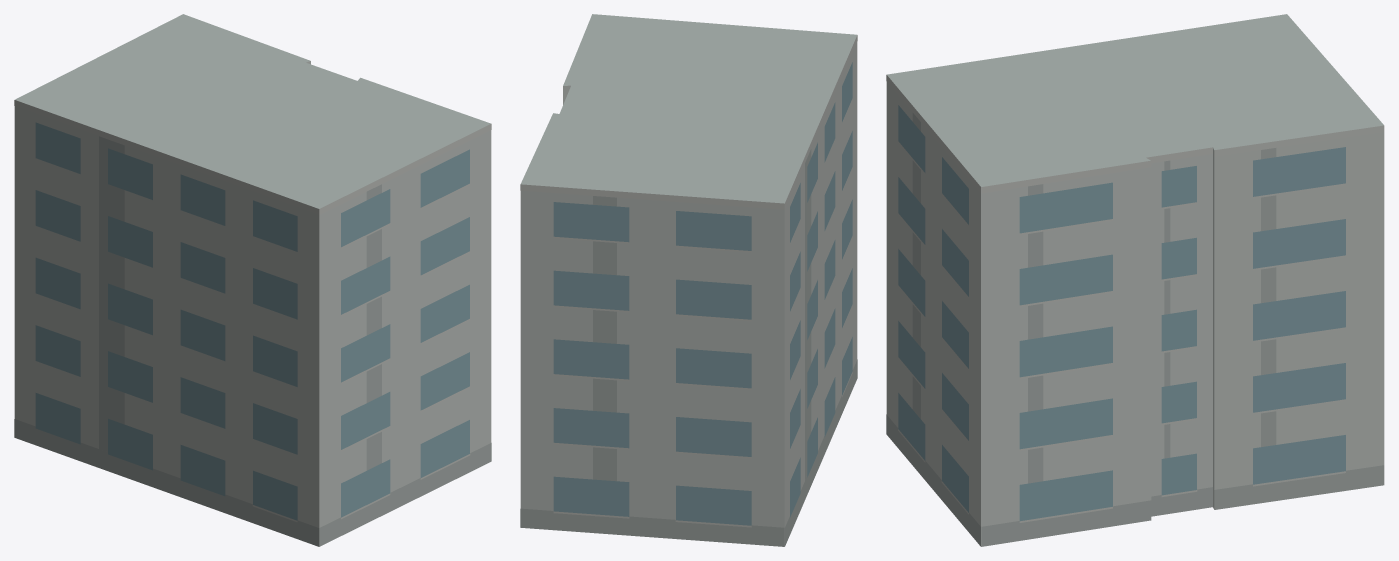
Rendered from survey-upis-32972025.glb.
3 views of the same model, side by side, from view 1: azimuth 30°, elevation 25°; view 2: azimuth 150°, elevation 25°; view 3: azimuth 270°, elevation 25° (orthographic). The views are drawn at different scales.
Parts seen in each view (by area): view 1: survey-upis-32972025.tmp; view 2: survey-upis-32972025.tmp; view 3: survey-upis-32972025.tmp.
Boxes of the visible parts, bbox=[...] form: survey-upis-32972025.tmp: bbox=[14, 14, 491, 546]; survey-upis-32972025.tmp: bbox=[520, 14, 857, 546]; survey-upis-32972025.tmp: bbox=[886, 14, 1384, 546].
Size of the model in its own units: 13.73 by 13.3 by 16.69.
